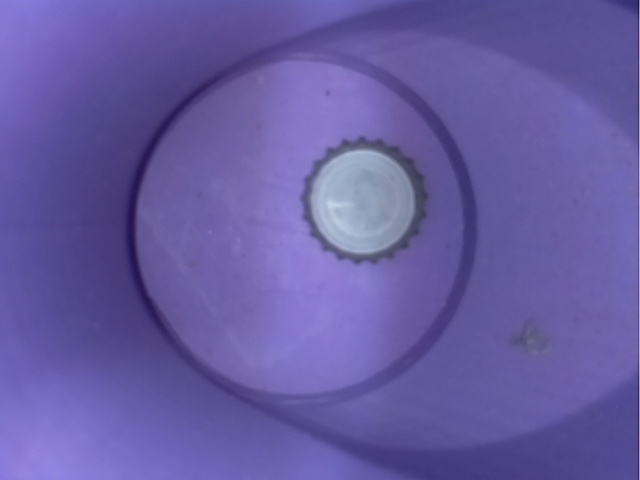capsule: (286, 126, 447, 266)
